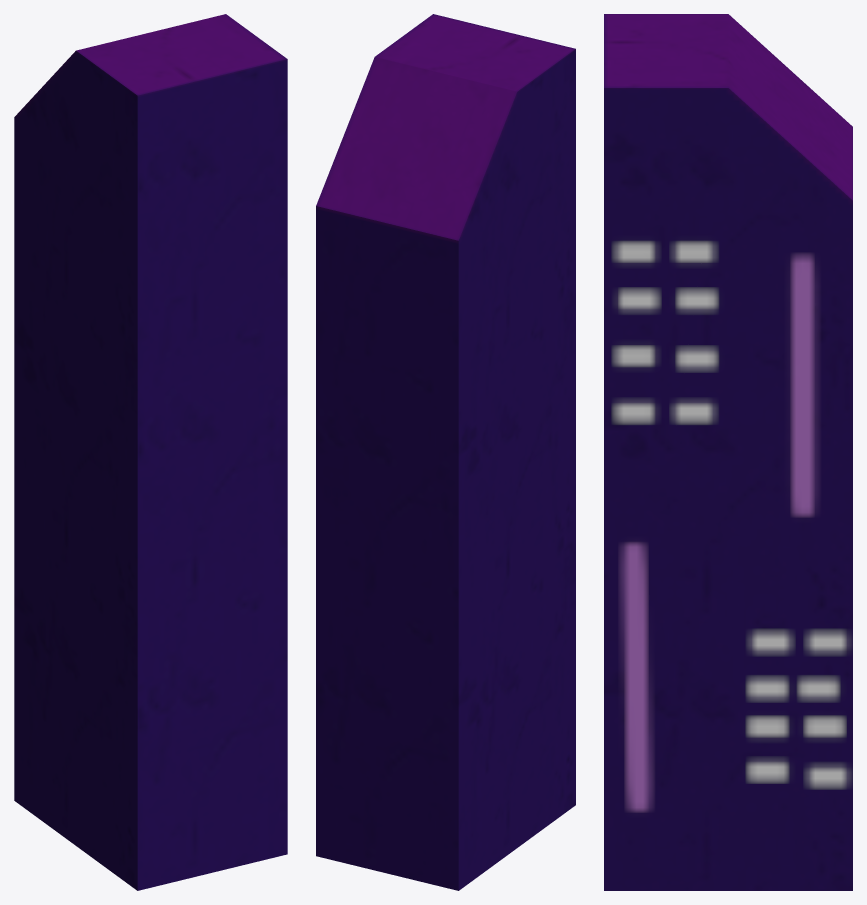
Rendered from Building2.fbx.
3 views of the same model, side by side, from view 1: azimuth 30°, elevation 25°; view 2: azimuth 150°, elevation 25°; view 3: azimuth 270°, elevation 25° (orthographic). The views are drawn at different scales.
Visible parts, largest first — view 1: pCube2; view 2: pCube2; view 3: pCube2.
Part boxes in pixels (left/top/right/bottom): pCube2: left=14, top=14, right=287, bottom=890; pCube2: left=316, top=14, right=575, bottom=890; pCube2: left=604, top=14, right=852, bottom=890.
Bounding box in the file's own units: 1 × 5.07 × 1.42.
